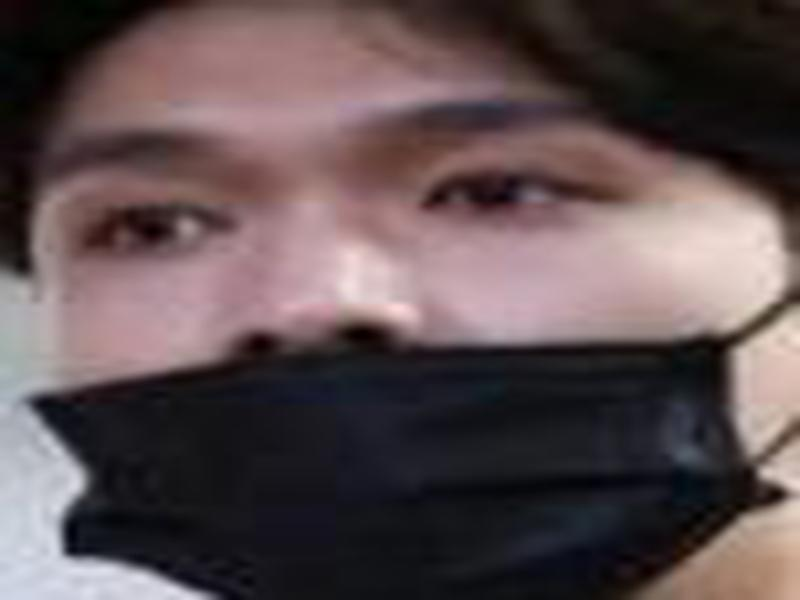with_mask: (13, 1, 800, 595)
